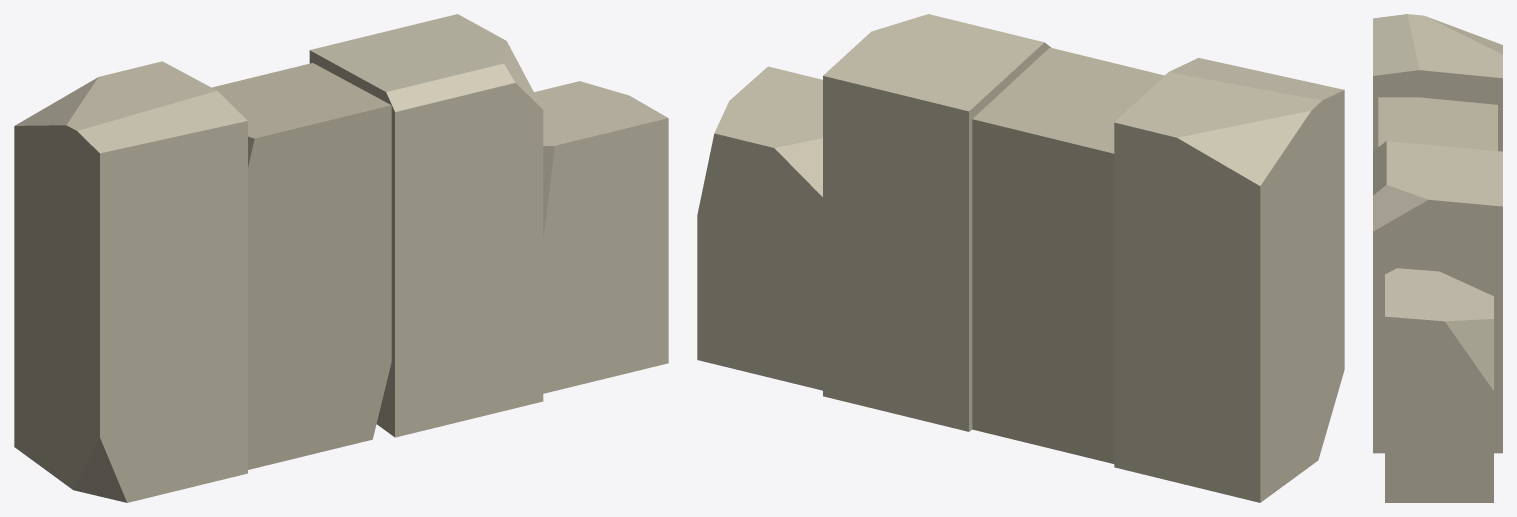
The model's file is Rocks_Square_m_01.fbx.
The picture shows the model from 3 angles, left to right: view 1: azimuth 30°, elevation 25°; view 2: azimuth 150°, elevation 25°; view 3: azimuth 270°, elevation 25°; orthographic projection. The views are drawn at different scales.
Parts seen in each view (by area): view 1: Rocks_Square_m_01; view 2: Rocks_Square_m_01; view 3: Rocks_Square_m_01.
Part boxes in pixels (x1,y1,x2,y2): Rocks_Square_m_01: (14, 14, 668, 502); Rocks_Square_m_01: (697, 14, 1344, 502); Rocks_Square_m_01: (1373, 14, 1502, 502).
Size of the model in its own units: 168 by 101 by 43.2.
